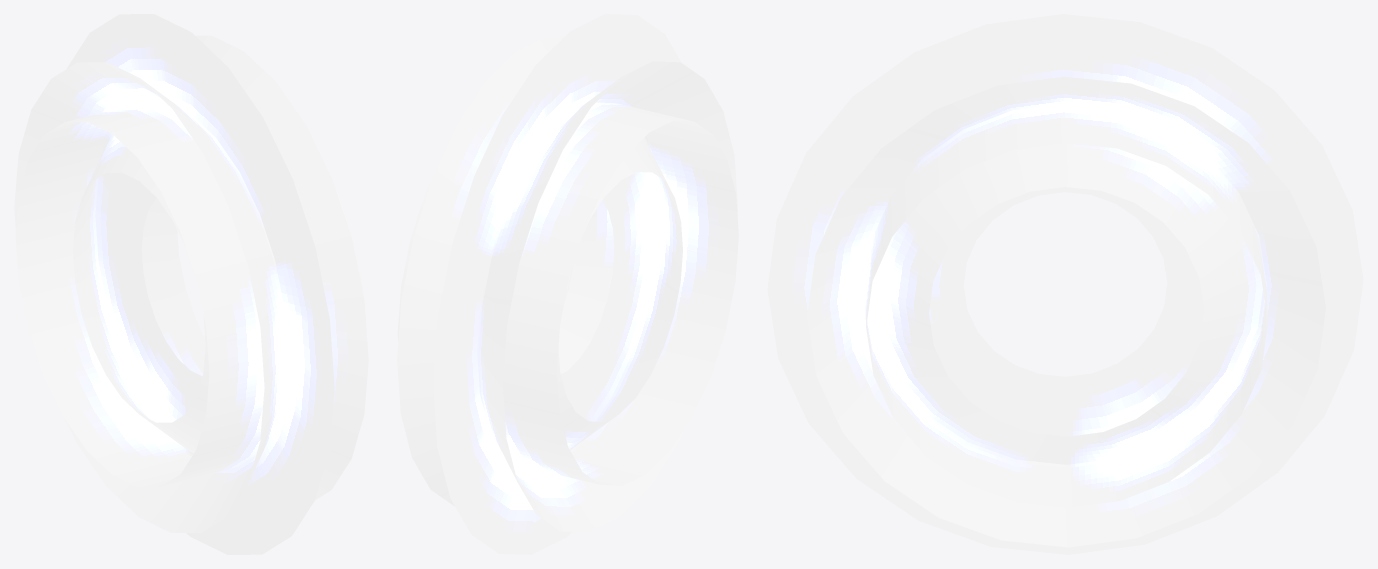
Rendered from sfx_weapon_strengthen_glorb02_armL.glb.
3 views of the same model, side by side, from view 1: azimuth 30°, elevation 25°; view 2: azimuth 150°, elevation 25°; view 3: azimuth 270°, elevation 25° (orthographic). The views are drawn at different scales.
Visible parts, largest first — view 1: sfx_weapon_strengthen_glorb02_armL_obj2; view 2: sfx_weapon_strengthen_glorb02_armL_obj2; view 3: sfx_weapon_strengthen_glorb02_armL_obj2.
Boxes of the visible parts, x1,y1,x2,y2 form: sfx_weapon_strengthen_glorb02_armL_obj2: (14,14,368,554); sfx_weapon_strengthen_glorb02_armL_obj2: (397,14,738,554); sfx_weapon_strengthen_glorb02_armL_obj2: (767,14,1363,554).
Size of the model in its own units: 0.1763 by 0.5215 by 0.5214.
1 material, 1 textured.
